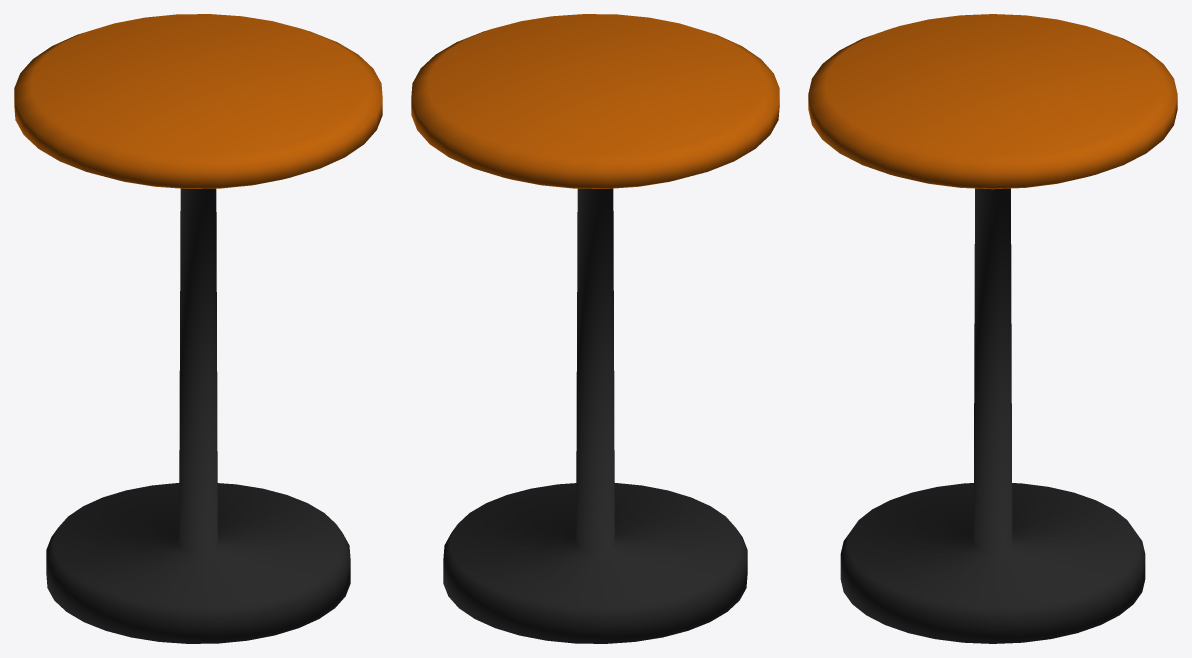
The model's file is small_chair_.fbx.
3 views of the same model, side by side, from view 1: azimuth 30°, elevation 25°; view 2: azimuth 150°, elevation 25°; view 3: azimuth 270°, elevation 25° (orthographic).
Visible parts, largest first — view 1: Cylinder; view 2: Cylinder; view 3: Cylinder.
Part boxes in pixels (bbox=[...]): Cylinder: bbox=[14, 14, 382, 643]; Cylinder: bbox=[411, 14, 779, 643]; Cylinder: bbox=[808, 14, 1177, 643].
Bounding box in the file's own units: 242 × 359 × 242.
